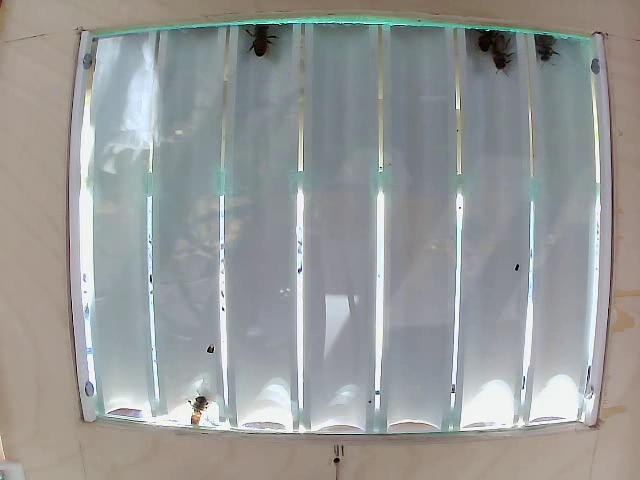bee: (250, 25, 289, 61), (182, 380, 215, 420), (534, 22, 556, 63), (497, 36, 514, 70)
